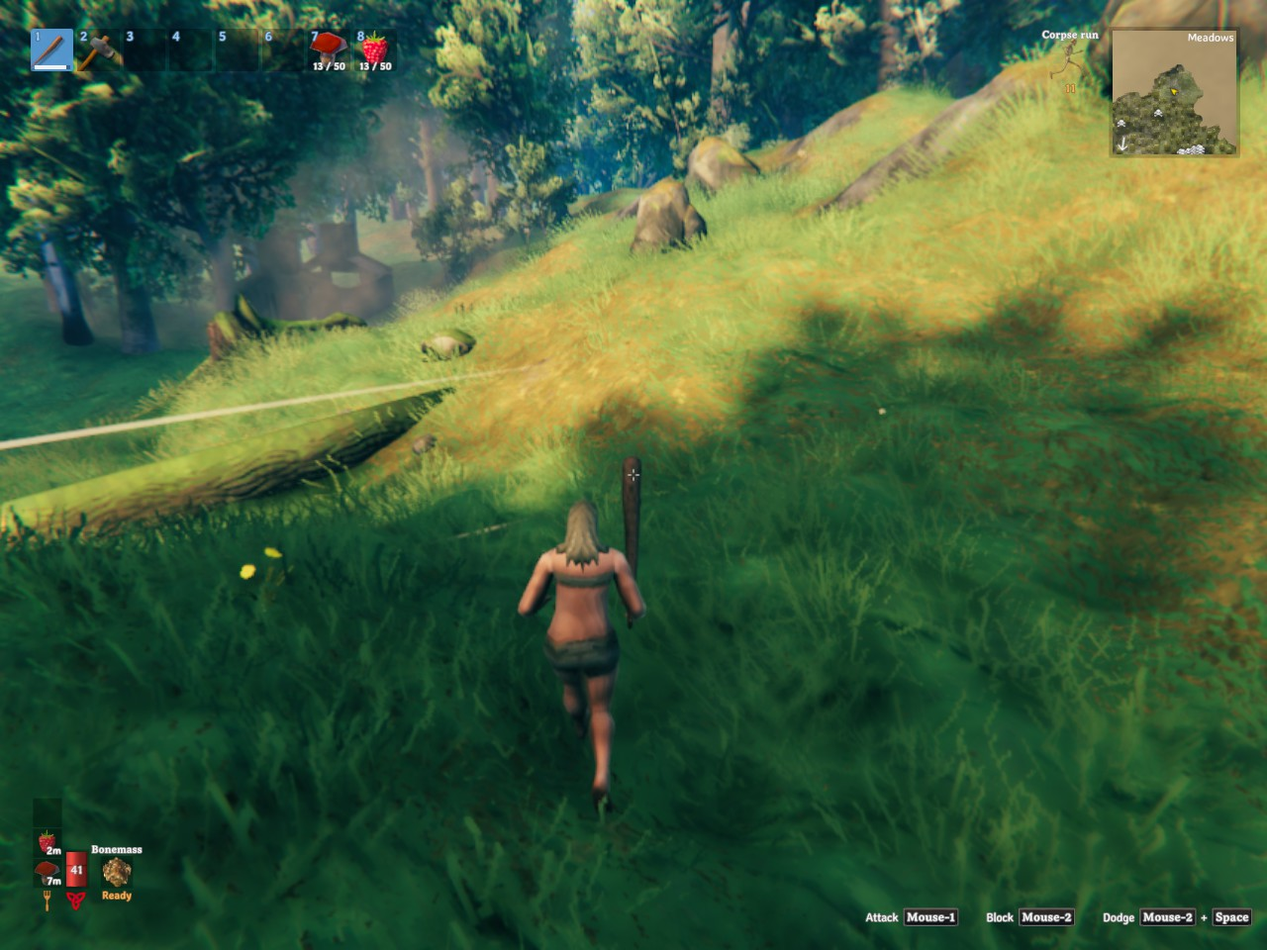House: (235, 228, 398, 319)
Stone: (413, 433, 436, 454)
